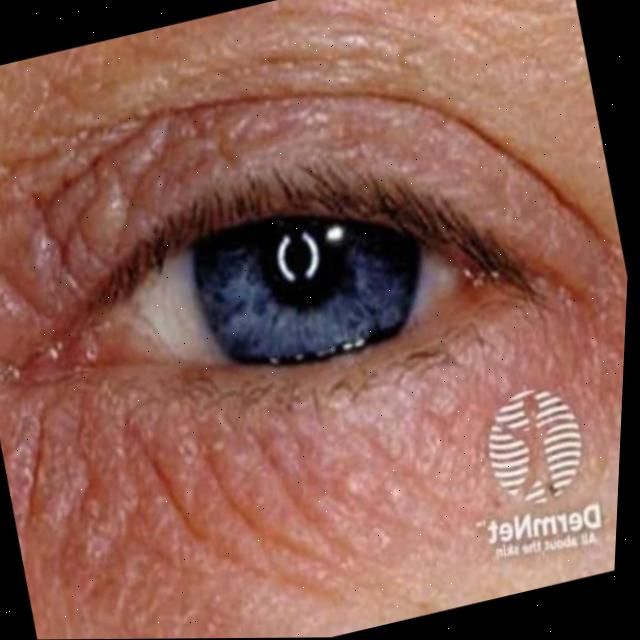Eczema: (0, 74, 593, 575)
